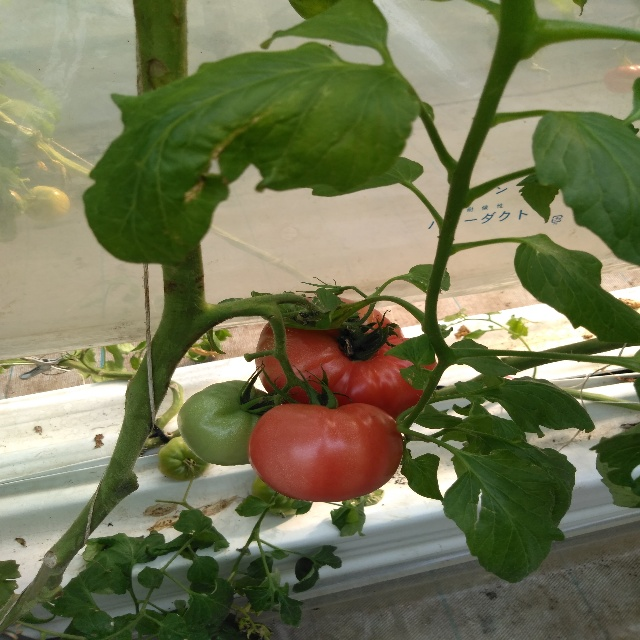b_fully_ripened: (255, 297, 438, 422), (248, 402, 404, 502)
b_green: (177, 380, 280, 466)
